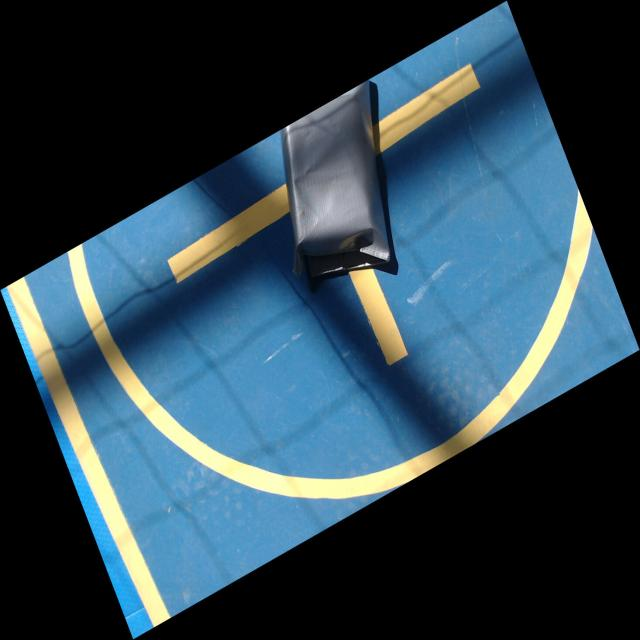vertical: (281, 83, 390, 276)
